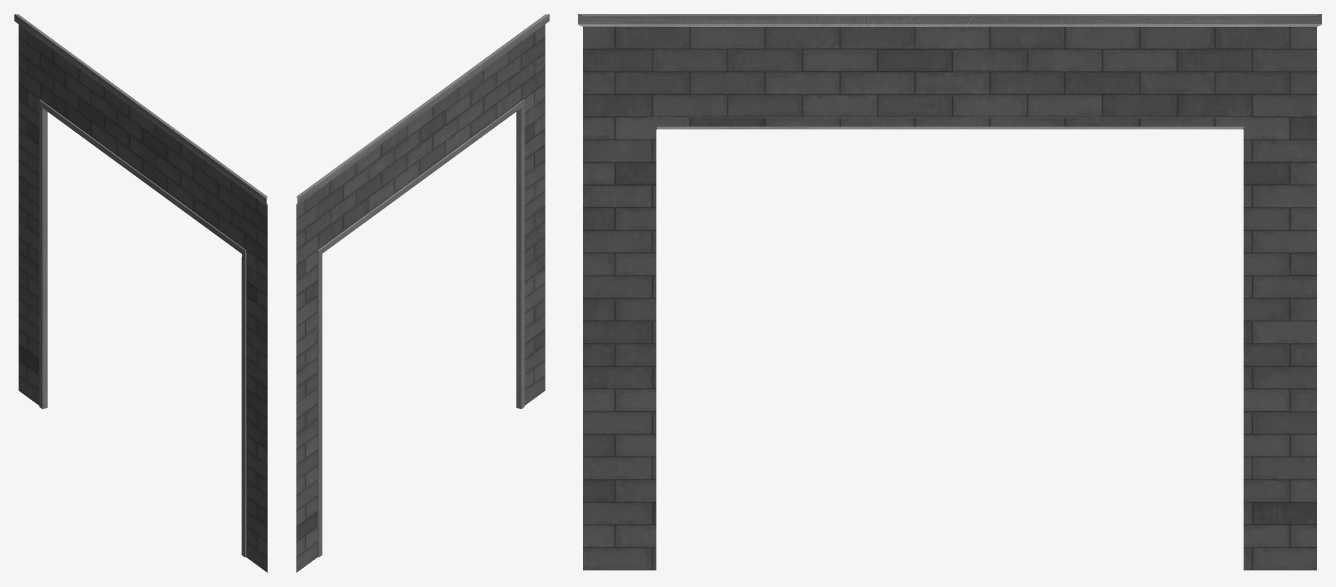
File: SM_Mid_150_Door_Wide.fbx
3 renders of one model, left to right at view 1: azimuth 30°, elevation 25°; view 2: azimuth 150°, elevation 25°; view 3: azimuth 270°, elevation 25°, orthographic. The views are drawn at different scales.
Visible parts, largest first — view 1: SM_Mid_150_Door_Wide_LOD0; view 2: SM_Mid_150_Door_Wide_LOD0; view 3: SM_Mid_150_Door_Wide_LOD0.
Boxes of the visible parts, <box> form: SM_Mid_150_Door_Wide_LOD0: <box>14,14,267,572</box>; SM_Mid_150_Door_Wide_LOD0: <box>296,14,549,572</box>; SM_Mid_150_Door_Wide_LOD0: <box>578,14,1321,570</box>.
Size of the model in its own units: 4.73 by 304 by 250.
